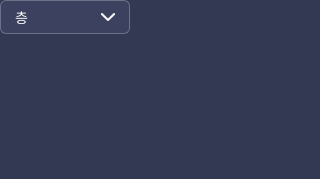
Test: FilterSelectBox allLabel › allLabel 이 없으면 드롭다운 첫 항목은 기존대로 '전체'
This screenshot has width=320, height=179.
Step 1. Click the text "층" → (21,18), box [15,8,28,27]
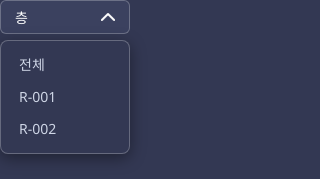
Now the text "전체" is shown, box [19,55,45,74]
